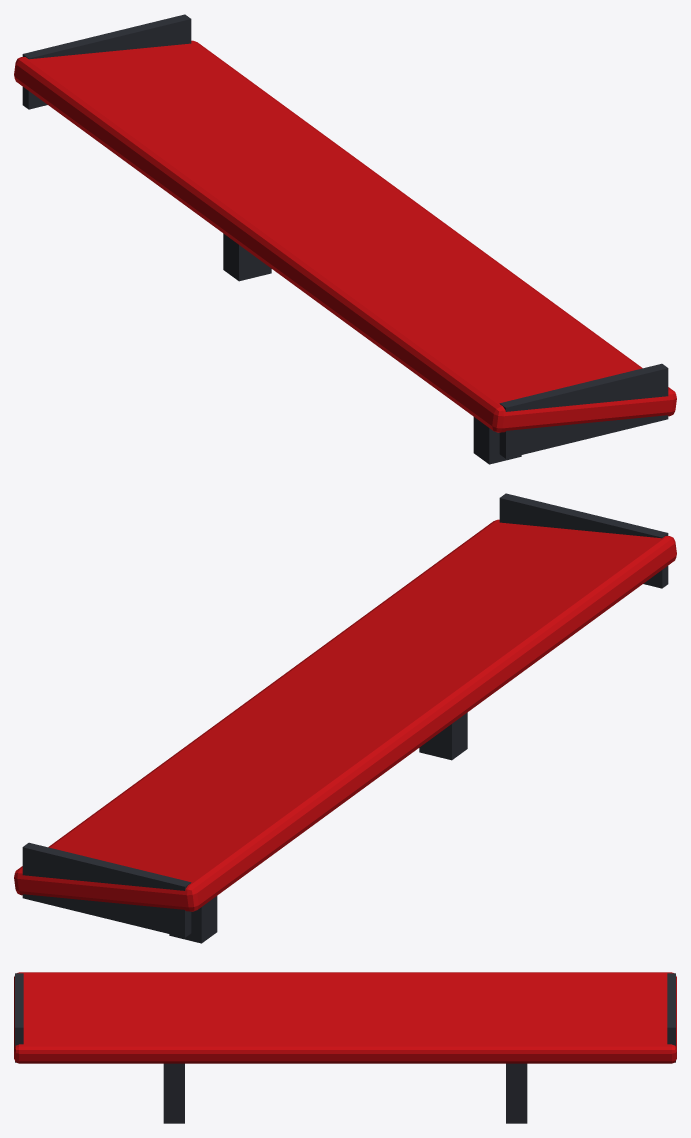
Rendered from wing.obj.
The picture shows the model from 3 angles, top to bottom: view 1: azimuth 30°, elevation 25°; view 2: azimuth 150°, elevation 25°; view 3: azimuth 270°, elevation 25°; orthographic projection. The views are drawn at different scales.
Parts seen in each view (by area): view 1: Cube; view 2: Cube; view 3: Cube.
Part boxes in pixels (x1=…): Cube: x1=14, y1=14, x2=676, y2=464; Cube: x1=14, y1=493, x2=676, y2=943; Cube: x1=14, y1=972, x2=676, y2=1123.
Size of the model in its own units: 0.3396 by 0.28 by 1.55.
